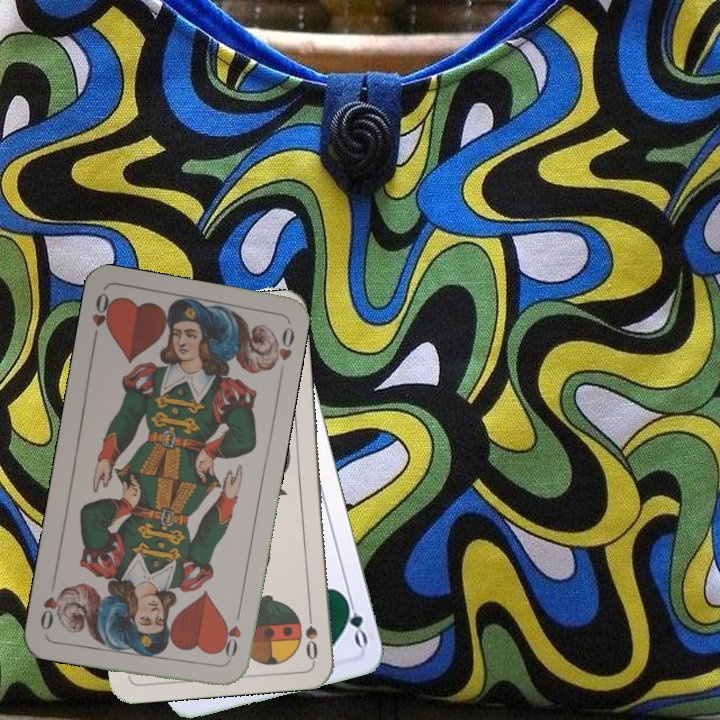GO: (339, 590, 371, 649)
HO: (216, 606, 244, 665), (88, 288, 116, 347)
SO: (301, 604, 321, 663)
